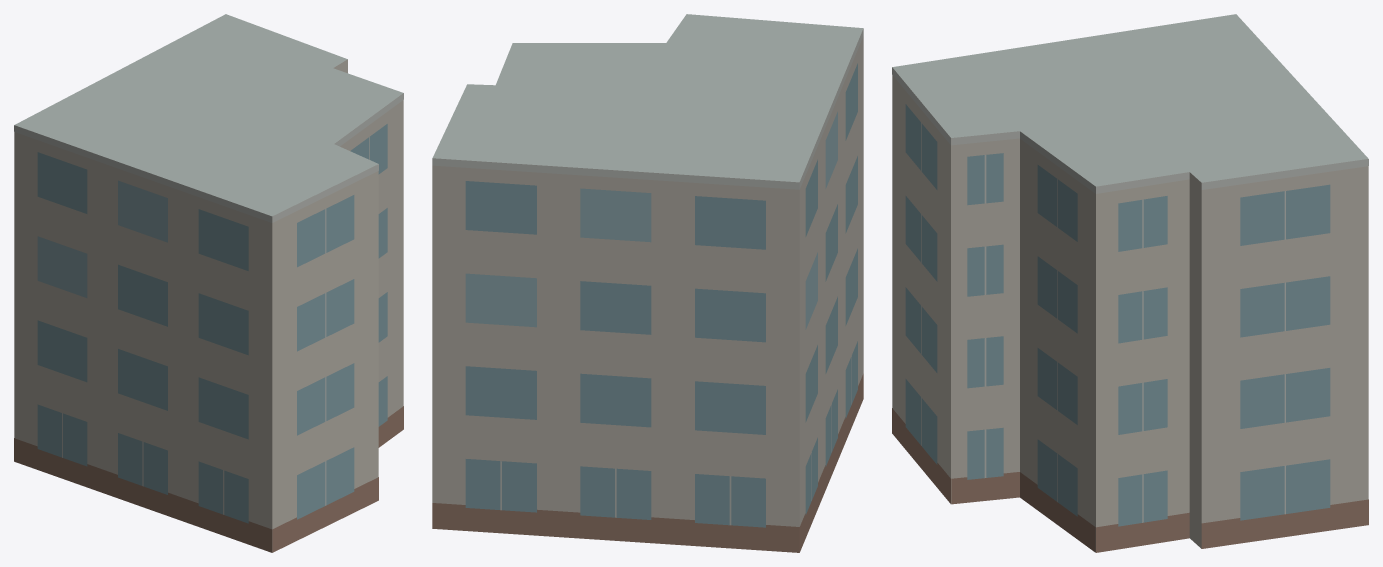
File: survey-upis-32852365.glb
The picture shows the model from 3 angles, left to right: view 1: azimuth 30°, elevation 25°; view 2: azimuth 150°, elevation 25°; view 3: azimuth 270°, elevation 25°; orthographic projection. The views are drawn at different scales.
Visible parts, largest first — view 1: survey-upis-32852365.tmp; view 2: survey-upis-32852365.tmp; view 3: survey-upis-32852365.tmp.
Boxes of the visible parts, box(x1,y1,x2,y2) form: survey-upis-32852365.tmp: box(14, 14, 403, 552); survey-upis-32852365.tmp: box(432, 14, 863, 552); survey-upis-32852365.tmp: box(892, 14, 1368, 552).
Size of the model in its own units: 12.35 by 12.2 by 14.4.
